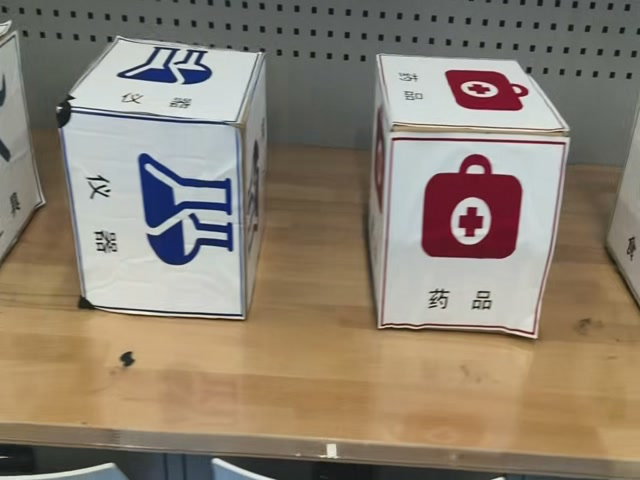Cube_ins: (61, 42, 261, 129)
Cube_medicine: (373, 57, 567, 140)
